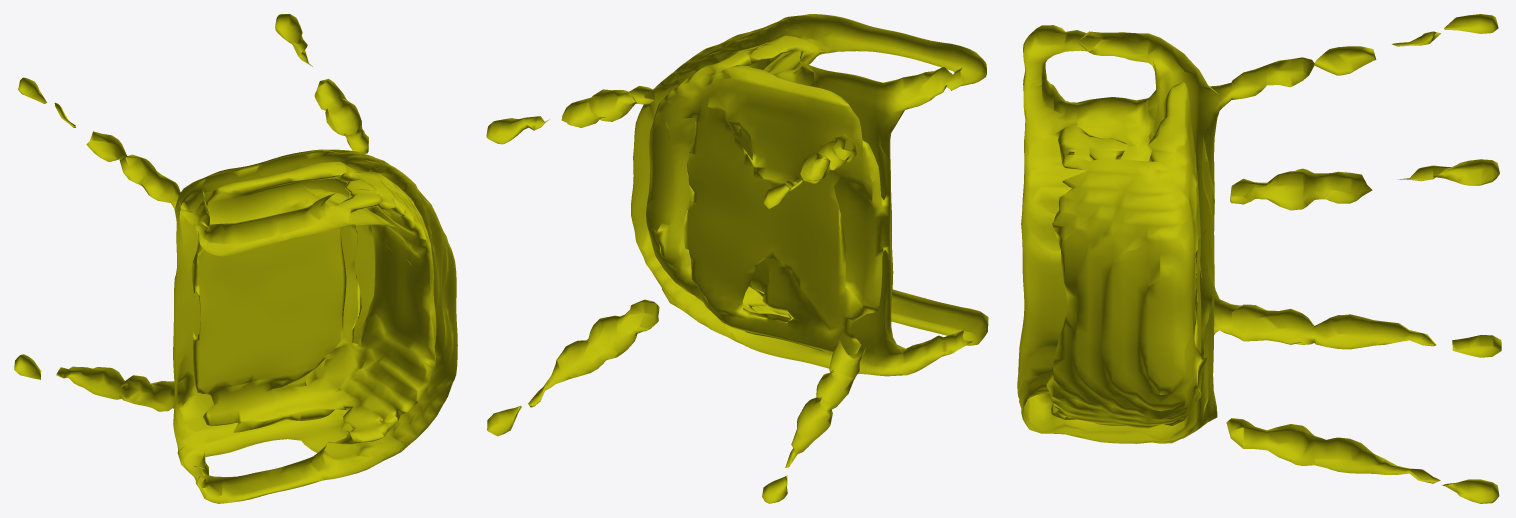
The picture shows the model from 3 angles, left to right: view 1: azimuth 30°, elevation 25°; view 2: azimuth 150°, elevation 25°; view 3: azimuth 270°, elevation 25°; orthographic projection. The views are drawn at different scales.
Visible parts, largest first — view 1: world; view 2: world; view 3: world.
Boxes of the visible parts, x1,y1,x2,y2 form: world: (14, 14, 457, 503); world: (486, 14, 988, 503); world: (1017, 14, 1501, 503).
Bounding box in the file's own units: 31.77 × 31.98 × 40.85.
